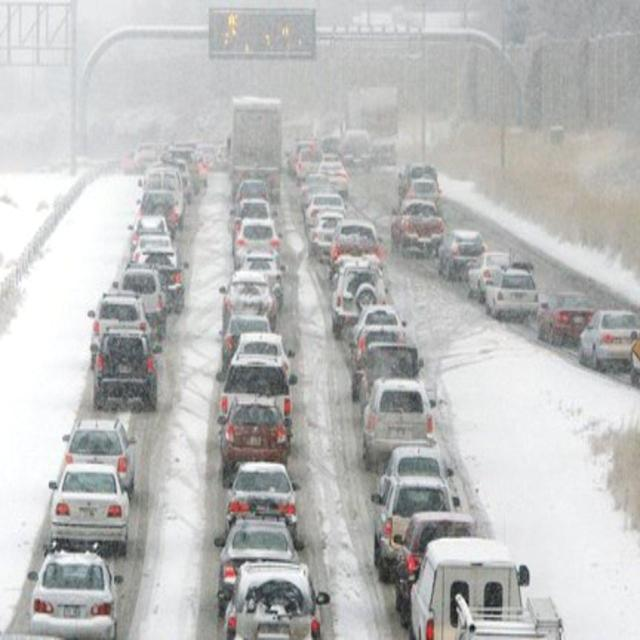Car: (394, 511, 487, 608), (27, 550, 126, 640), (220, 561, 332, 640), (48, 468, 132, 553), (378, 478, 458, 558), (56, 416, 139, 491), (363, 374, 438, 456), (217, 524, 305, 593), (94, 330, 159, 415), (216, 402, 298, 468), (222, 463, 305, 526), (221, 362, 294, 433), (86, 295, 150, 365), (348, 342, 423, 398), (328, 273, 388, 334), (106, 272, 165, 331), (228, 330, 295, 376), (580, 312, 637, 366), (538, 290, 589, 349), (486, 268, 539, 324), (391, 200, 445, 254), (347, 307, 414, 350), (383, 446, 463, 480), (130, 258, 187, 305), (440, 226, 490, 278), (222, 278, 281, 320), (220, 317, 282, 351), (233, 219, 282, 258), (334, 221, 381, 261), (466, 254, 514, 292), (130, 239, 182, 268), (318, 161, 348, 197)
Truck: (404, 535, 567, 638), (232, 92, 282, 205)
